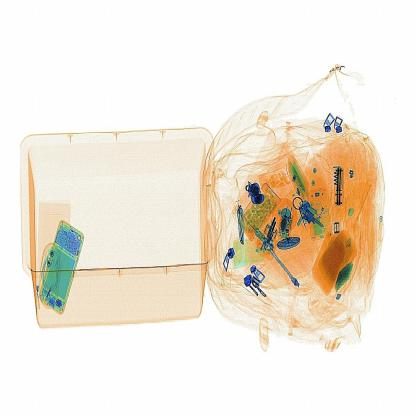scissors: (324, 158, 357, 218)
